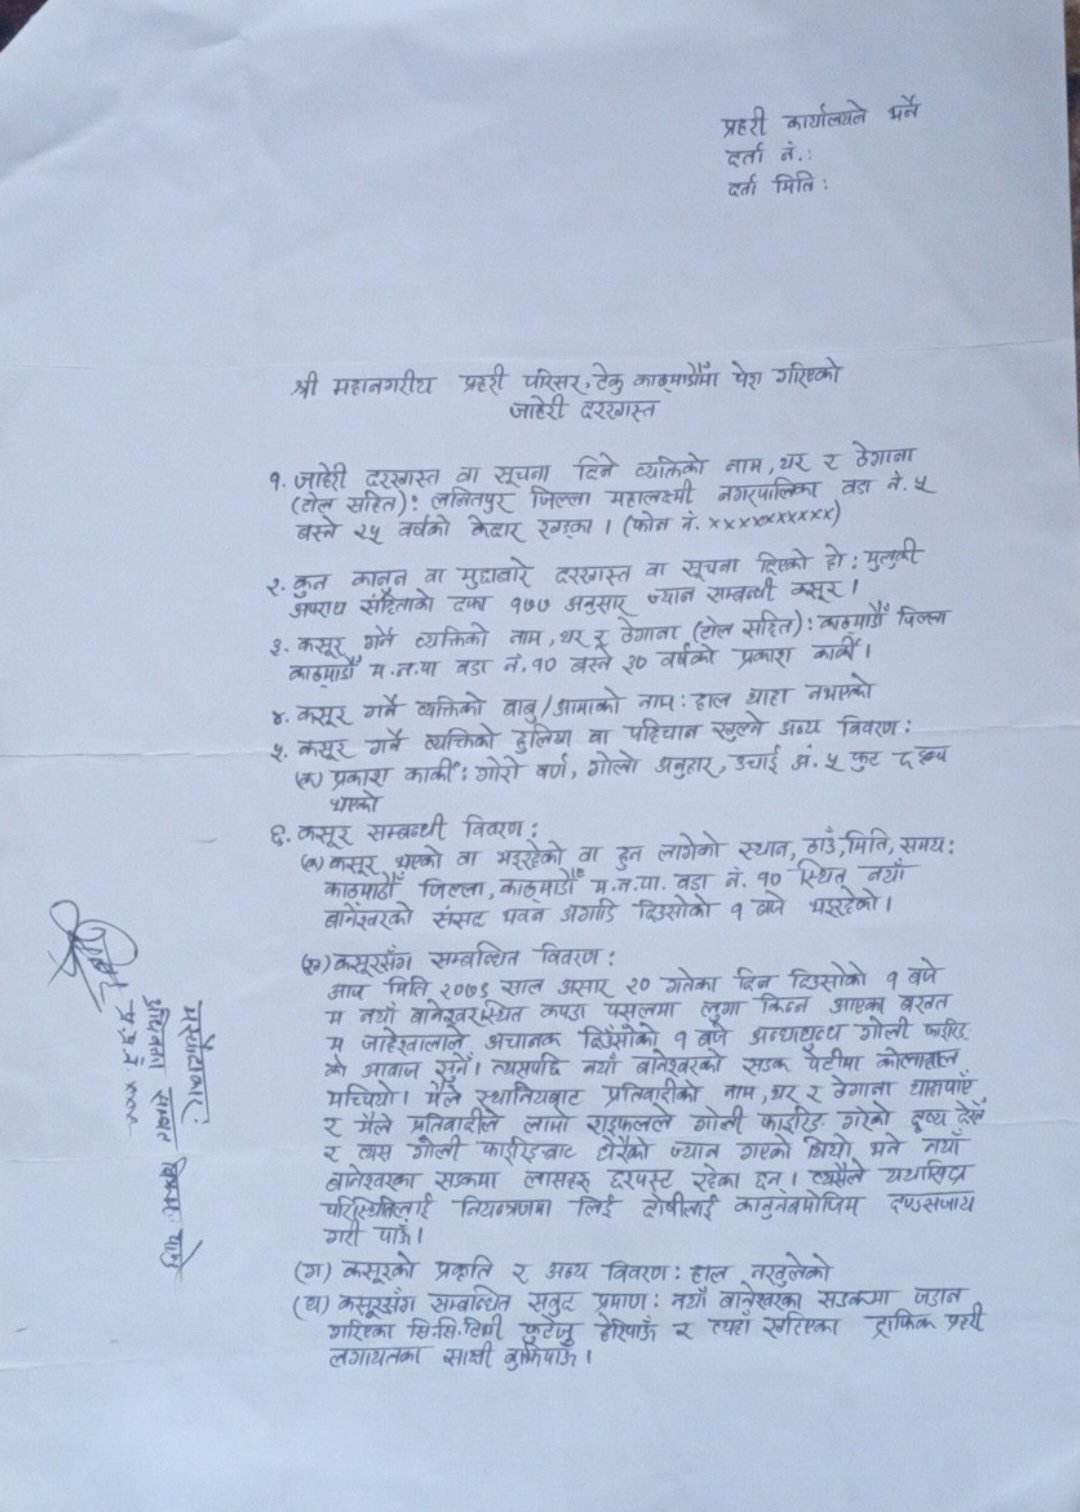text: (176, 998, 217, 1123), (731, 1190, 861, 1220), (745, 1249, 833, 1289), (583, 1102, 677, 1139), (325, 368, 438, 398), (472, 1081, 588, 1110), (361, 1025, 468, 1056), (424, 939, 522, 972), (715, 476, 821, 506), (745, 1020, 844, 1052), (628, 360, 721, 393), (631, 1046, 724, 1078), (321, 1194, 437, 1220), (340, 1249, 420, 1286), (781, 98, 868, 132), (458, 555, 533, 594), (454, 1193, 556, 1221), (497, 869, 584, 902), (331, 943, 417, 976), (601, 1078, 701, 1107), (407, 1315, 507, 1343), (321, 902, 416, 931), (430, 1284, 514, 1317), (477, 1137, 579, 1164), (334, 1286, 417, 1319), (325, 1343, 425, 1369), (718, 1284, 803, 1316), (773, 354, 844, 391), (425, 484, 513, 514), (870, 1043, 961, 1073), (355, 588, 439, 619), (882, 1190, 981, 1216), (884, 1158, 974, 1187), (604, 481, 698, 509), (788, 960, 870, 992), (548, 684, 624, 717), (759, 1310, 843, 1340), (806, 888, 884, 921), (635, 892, 718, 922), (802, 674, 880, 706), (500, 1343, 579, 1374), (407, 1109, 506, 1133), (577, 1022, 663, 1050), (323, 1168, 420, 1193), (552, 560, 636, 588), (140, 991, 169, 1071), (625, 715, 702, 745), (655, 830, 726, 862), (364, 814, 446, 842), (490, 1048, 563, 1080), (411, 622, 491, 651), (634, 451, 709, 481), (360, 464, 442, 492), (157, 1227, 203, 1276), (641, 1193, 719, 1222), (496, 839, 567, 871), (417, 724, 497, 752), (575, 398, 662, 424), (590, 1315, 660, 1346), (849, 438, 921, 469), (864, 536, 925, 573), (324, 1080, 399, 1109), (870, 1308, 939, 1339), (414, 692, 485, 722), (815, 603, 892, 631), (904, 1073, 983, 1100), (323, 876, 399, 904), (520, 1313, 577, 1350), (154, 1154, 187, 1218), (521, 1166, 591, 1195), (605, 1163, 676, 1192), (520, 365, 584, 396), (704, 580, 778, 606), (286, 661, 358, 689), (709, 709, 764, 745), (465, 513, 531, 543), (404, 1003, 478, 1029), (617, 615, 681, 645), (508, 727, 573, 757), (836, 710, 902, 740), (829, 1071, 895, 1101), (364, 657, 442, 681), (655, 752, 718, 783), (292, 460, 351, 493), (603, 1256, 669, 1285), (741, 606, 795, 641), (432, 1253, 494, 1283), (752, 546, 811, 577), (664, 964, 724, 996), (718, 104, 768, 141), (792, 856, 850, 889), (798, 1047, 867, 1074), (535, 514, 598, 543), (348, 564, 411, 594), (731, 745, 783, 781), (688, 1103, 747, 1135), (561, 592, 636, 617), (757, 1107, 829, 1132), (601, 998, 679, 1021), (842, 1100, 895, 1133), (658, 641, 718, 672), (735, 643, 795, 673), (459, 361, 507, 398), (150, 1087, 176, 1153), (590, 873, 666, 896), (686, 1161, 745, 1192), (482, 1029, 566, 1050), (536, 941, 602, 967), (417, 875, 489, 900), (584, 749, 644, 778), (809, 1161, 871, 1190), (462, 812, 526, 839), (816, 1286, 889, 1310), (408, 1133, 466, 1163), (591, 1286, 650, 1316), (293, 701, 349, 731), (331, 761, 392, 789), (828, 989, 888, 1017), (572, 448, 619, 483), (430, 903, 490, 931), (507, 396, 569, 423), (678, 555, 740, 582), (525, 484, 593, 508), (944, 1302, 990, 1338), (559, 897, 617, 925), (593, 1136, 651, 1164), (738, 1135, 794, 1164), (788, 580, 849, 606), (491, 462, 554, 487), (328, 1319, 397, 1343), (799, 1132, 857, 1160), (399, 514, 454, 543), (358, 1057, 425, 1081), (289, 736, 353, 761), (432, 1168, 497, 1193), (857, 1015, 913, 1043), (345, 488, 399, 518), (438, 1343, 497, 1369), (288, 598, 348, 624), (812, 634, 861, 666), (401, 757, 458, 784), (524, 1289, 583, 1315), (477, 996, 525, 1027), (326, 789, 385, 814), (296, 824, 354, 849), (899, 989, 951, 1017), (843, 826, 891, 856), (631, 505, 676, 537), (554, 976, 616, 999), (759, 990, 812, 1017), (506, 589, 558, 617), (295, 634, 346, 663), (857, 860, 912, 886), (893, 605, 953, 629), (364, 724, 404, 758), (328, 852, 380, 879), (522, 1109, 574, 1136), (394, 842, 443, 871), (475, 757, 521, 786), (430, 1053, 473, 1084), (544, 1257, 591, 1285), (733, 964, 778, 993), (740, 1053, 794, 1077), (911, 1283, 963, 1308), (709, 1311, 757, 1338), (644, 584, 699, 608), (896, 745, 951, 769), (591, 361, 626, 397), (907, 953, 943, 989), (725, 143, 771, 169), (534, 1000, 588, 1024), (501, 694, 541, 726), (576, 1050, 621, 1078), (738, 840, 790, 863), (496, 975, 548, 998), (771, 171, 817, 197), (567, 649, 612, 675), (354, 999, 400, 1026), (801, 824, 838, 856), (667, 1139, 722, 1161), (361, 691, 400, 722), (699, 996, 742, 1024), (911, 1104, 950, 1135), (896, 833, 948, 856), (323, 1220, 364, 1249), (288, 573, 332, 599), (727, 360, 764, 391), (699, 612, 736, 644), (371, 1218, 413, 1246), (742, 684, 792, 707), (886, 93, 925, 124), (359, 624, 397, 654), (749, 1167, 792, 1194), (382, 975, 434, 997), (439, 979, 491, 1001), (423, 1082, 465, 1109), (292, 521, 340, 545), (923, 1018, 969, 1042), (775, 716, 825, 738), (446, 594, 493, 617), (535, 756, 573, 785), (574, 1195, 618, 1220), (688, 1260, 731, 1285), (670, 1288, 709, 1315), (951, 1096, 986, 1126), (497, 906, 545, 928), (754, 889, 790, 918), (845, 748, 886, 774), (354, 1138, 395, 1164), (722, 456, 769, 478), (636, 691, 678, 715), (354, 1110, 394, 1136), (833, 474, 877, 498), (692, 688, 735, 712), (922, 1132, 965, 1156), (289, 369, 323, 398), (506, 624, 546, 649), (724, 173, 761, 199), (299, 488, 333, 516), (454, 656, 492, 680), (870, 1132, 905, 1159), (674, 869, 716, 892), (349, 521, 386, 547), (614, 842, 645, 872), (697, 1021, 732, 1047), (721, 1078, 759, 1102), (908, 471, 940, 498), (619, 653, 652, 679), (789, 744, 817, 774), (623, 969, 652, 997), (584, 720, 615, 747), (822, 543, 847, 575), (326, 982, 365, 1003), (775, 453, 812, 474), (818, 749, 846, 776), (670, 1318, 698, 1345), (321, 1053, 349, 1078), (641, 559, 672, 580), (498, 647, 522, 674), (421, 563, 446, 588), (456, 846, 483, 869), (455, 464, 484, 485), (558, 625, 587, 646), (574, 842, 603, 863), (770, 1080, 795, 1104), (533, 652, 559, 675), (302, 951, 325, 977), (882, 467, 905, 494), (320, 1007, 347, 1029), (263, 571, 283, 599), (269, 821, 289, 849), (319, 1116, 342, 1139), (297, 763, 317, 790), (265, 632, 284, 660), (266, 705, 289, 728), (726, 901, 748, 924), (300, 1293, 323, 1317), (757, 869, 784, 888), (805, 1084, 828, 1107), (302, 1260, 324, 1282), (676, 509, 697, 533), (266, 742, 288, 765), (510, 1258, 529, 1283), (882, 966, 901, 992), (722, 867, 745, 888), (266, 466, 282, 497), (670, 1029, 691, 1050), (821, 453, 843, 473), (778, 140, 797, 162), (320, 1142, 339, 1164), (588, 626, 608, 645), (327, 1032, 345, 1053), (303, 855, 321, 872)
